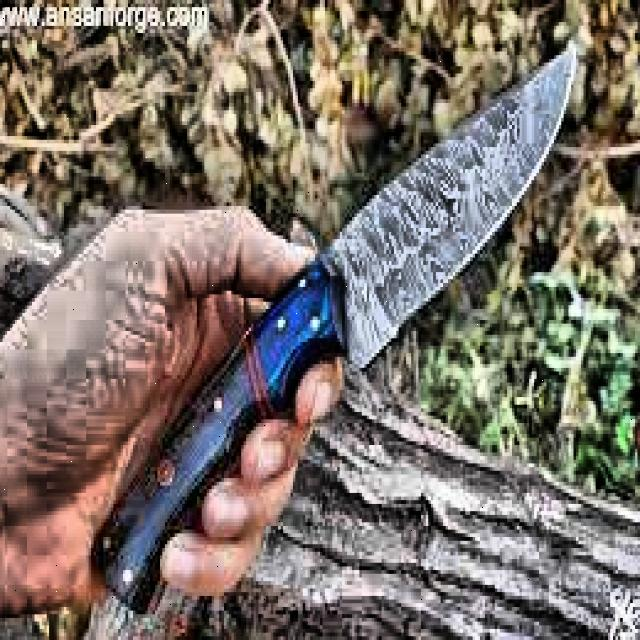knife: (91, 52, 578, 616)
